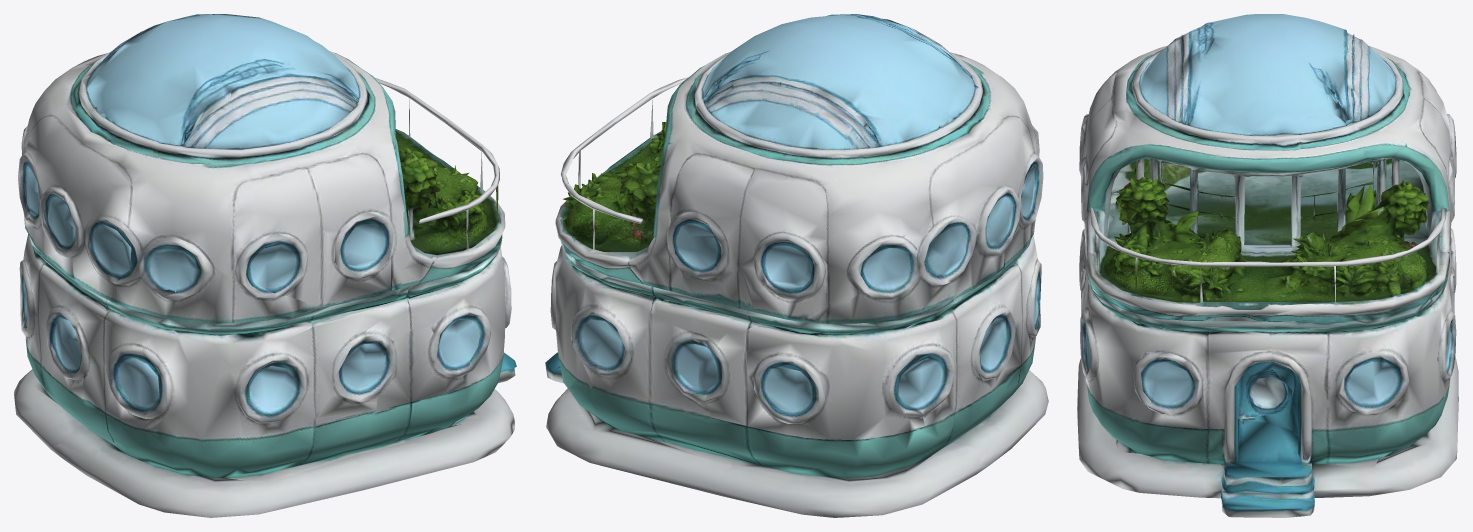
File: casa.glb
3 renders of one model, left to right at view 1: azimuth 30°, elevation 25°; view 2: azimuth 150°, elevation 25°; view 3: azimuth 270°, elevation 25°, orthographic. The views are drawn at different scales.
Parts seen in each view (by area): view 1: tripo_node_7feb12c0-9759-46b5-8517-48d9f9c456cb; view 2: tripo_node_7feb12c0-9759-46b5-8517-48d9f9c456cb; view 3: tripo_node_7feb12c0-9759-46b5-8517-48d9f9c456cb.
Part boxes in pixels (left/top/right/bottom): tripo_node_7feb12c0-9759-46b5-8517-48d9f9c456cb: left=14, top=14, right=516, bottom=517; tripo_node_7feb12c0-9759-46b5-8517-48d9f9c456cb: left=545, top=14, right=1048, bottom=517; tripo_node_7feb12c0-9759-46b5-8517-48d9f9c456cb: left=1077, top=14, right=1458, bottom=517.
Bounding box in the file's own units: 0.9979 × 0.8522 × 0.8091.
1 material, 1 textured.
